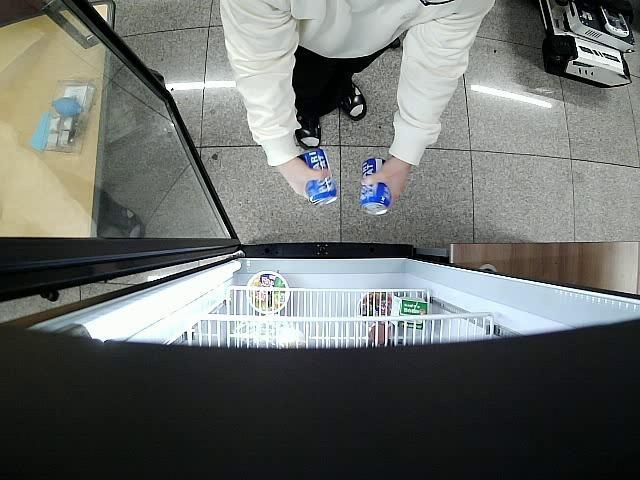13_pocariSweat: (302, 146, 339, 208), (358, 159, 394, 215)
